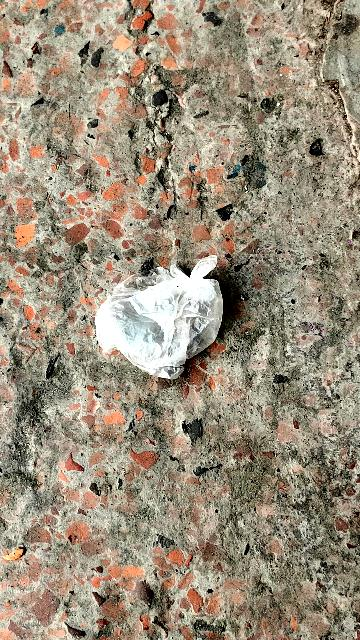polythene: (101, 252, 238, 383)
